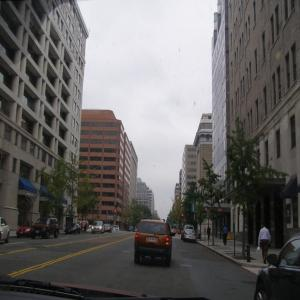Vehicle-registration-plate: (149, 239, 156, 243)
